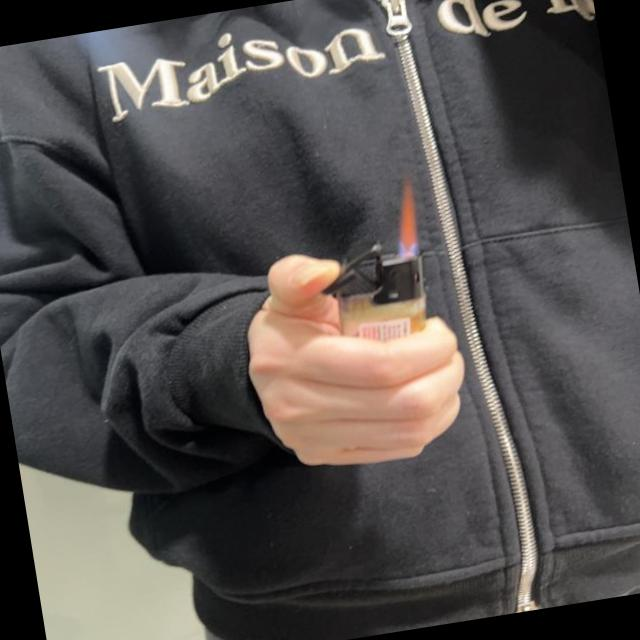Fire: (386, 175, 425, 260)
